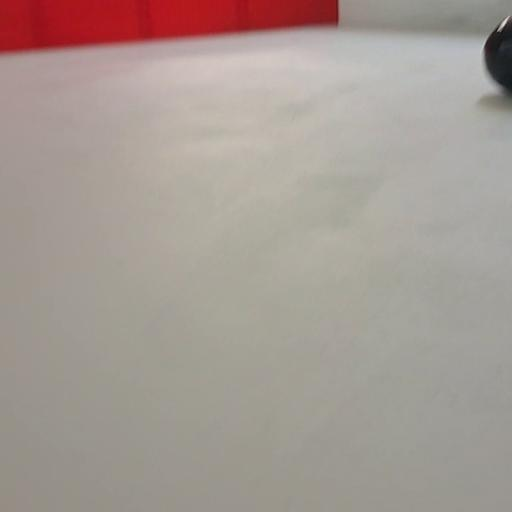dead: (483, 11, 512, 99)
